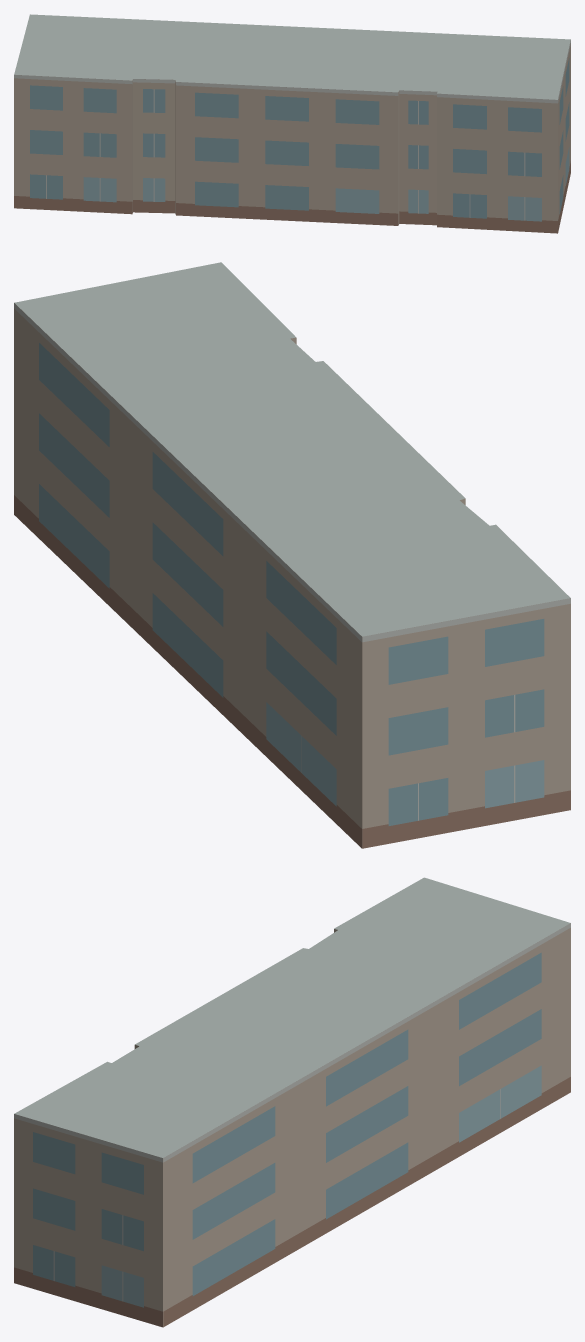
The model's file is survey-upis-32540888.glb.
3 renders of one model, top to bottom at view 1: azimuth 30°, elevation 25°; view 2: azimuth 150°, elevation 25°; view 3: azimuth 270°, elevation 25°, orthographic. The views are drawn at different scales.
Parts seen in each view (by area): view 1: survey-upis-32540888.tmp; view 2: survey-upis-32540888.tmp; view 3: survey-upis-32540888.tmp.
Part boxes in pixels (x1,y1,x2,y2): survey-upis-32540888.tmp: (14,14,570,233); survey-upis-32540888.tmp: (14,262,570,848); survey-upis-32540888.tmp: (14,877,570,1327).
Size of the model in its own units: 32.55 by 9.15 by 27.28.
